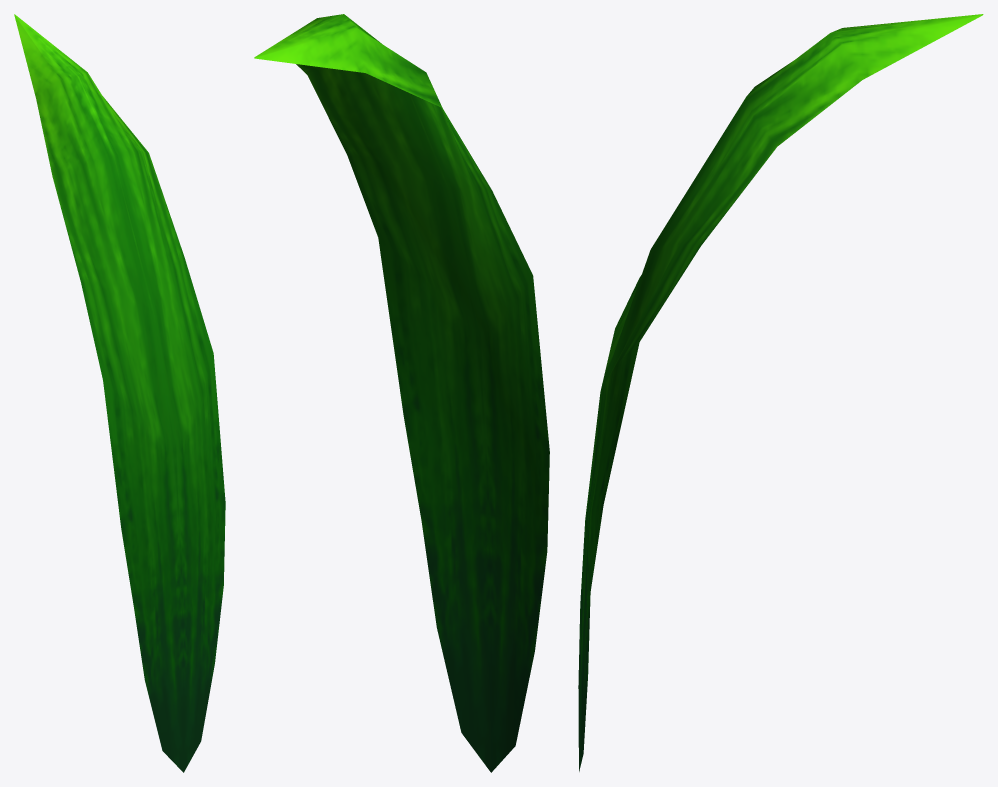
File: leaf-long-02.fbx
3 renders of one model, left to right at view 1: azimuth 30°, elevation 25°; view 2: azimuth 150°, elevation 25°; view 3: azimuth 270°, elevation 25°, orthographic. The views are drawn at different scales.
Visible parts, largest first — view 1: leaf-long-02; view 2: leaf-long-02; view 3: leaf-long-02.
Boxes of the visible parts, x1,y1,x2,y2 form: leaf-long-02: (14, 14, 225, 772); leaf-long-02: (254, 14, 549, 772); leaf-long-02: (578, 14, 983, 771).
Bounding box in the file's own units: 95.51 × 524 × 253.
